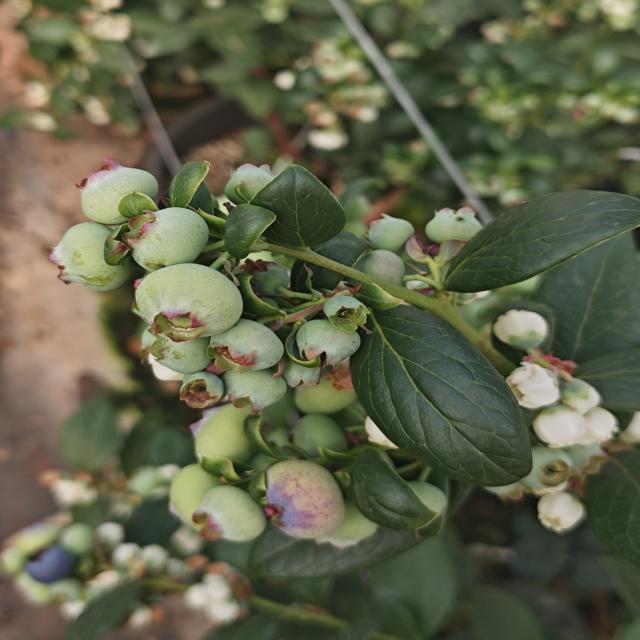ripe: (13, 541, 91, 583)
